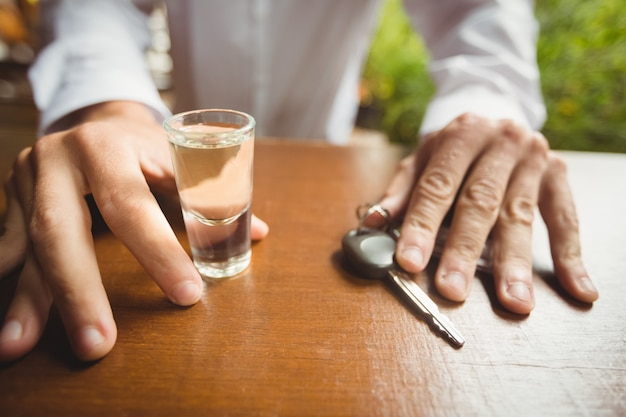alcohol: (162, 109, 256, 278)
